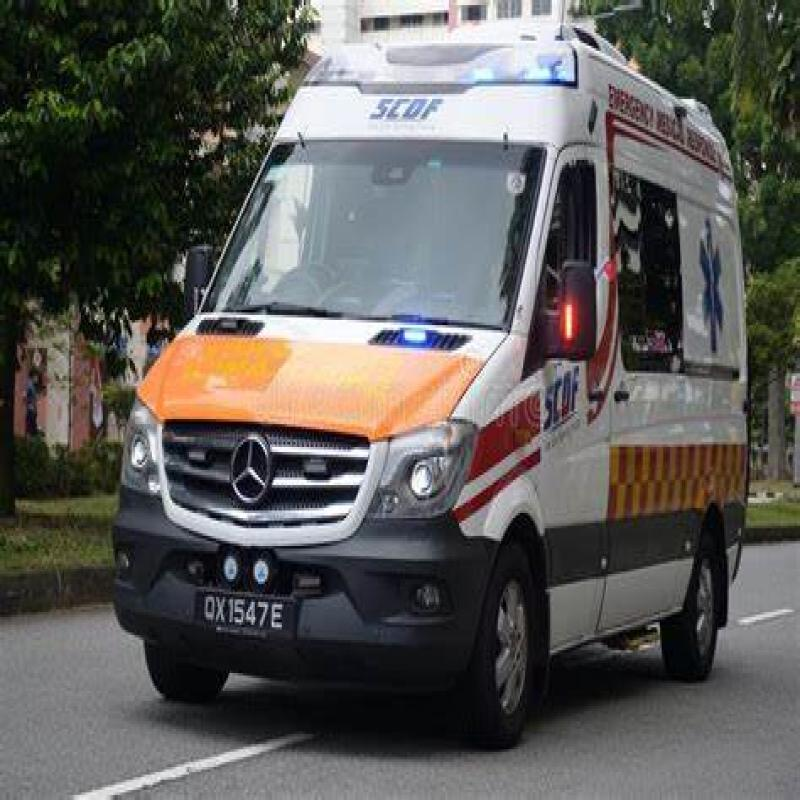AmbulanceSiren: (299, 11, 575, 114)
